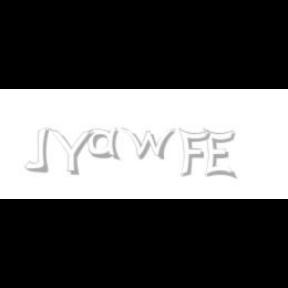E: (202, 128, 235, 180)
F: (178, 128, 210, 178)
J: (24, 128, 50, 172)
Y: (48, 128, 94, 176)
a: (88, 128, 124, 160)
w: (122, 128, 180, 160)
